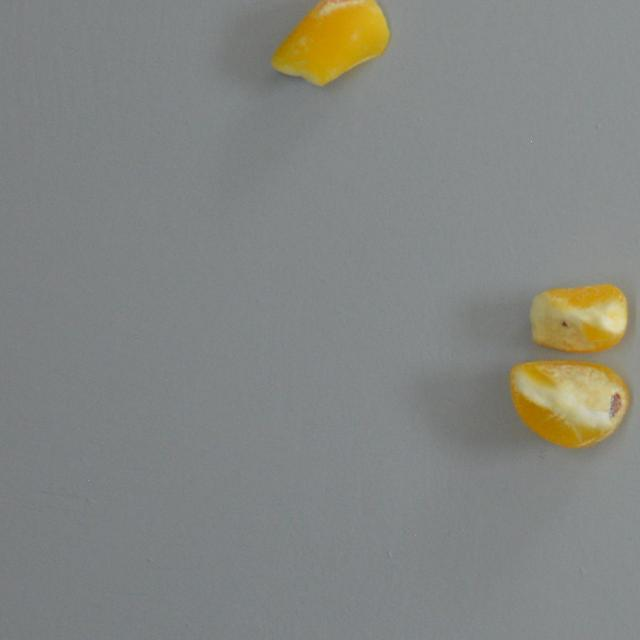dañado: (507, 359, 632, 448)
pelicula: (268, 0, 393, 86)
punto_negro: (527, 281, 627, 352)
